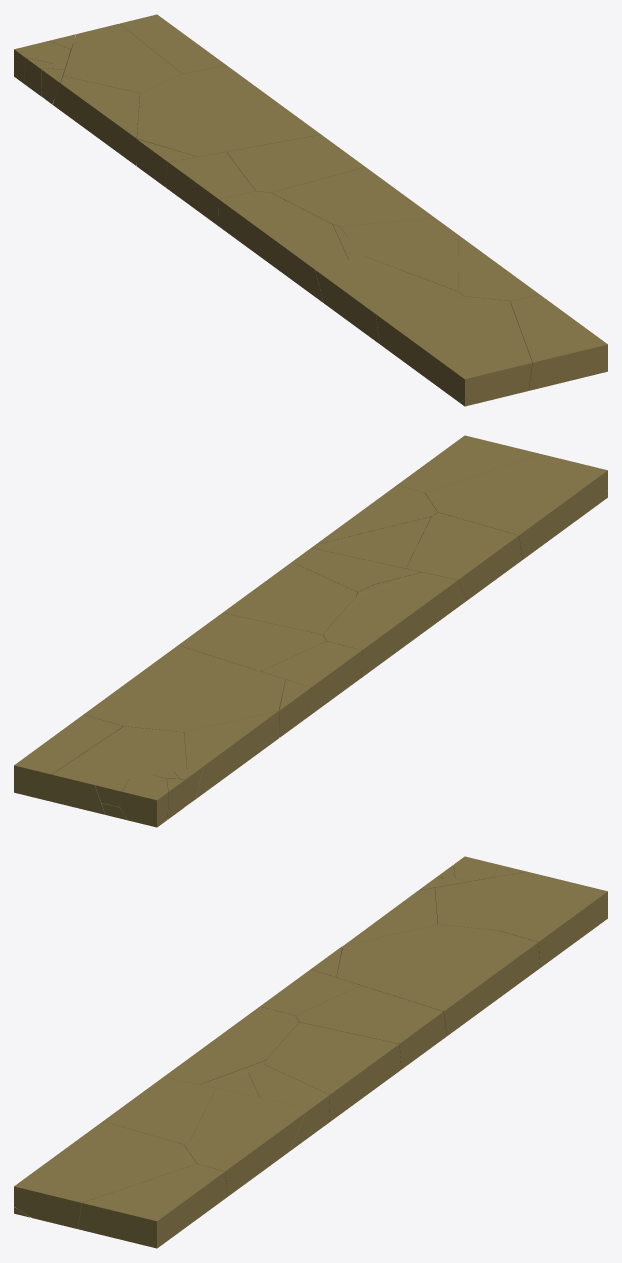
The model's file is DestroyedWoodPlank.fbx.
3 views of the same model, one above another, from view 1: azimuth 30°, elevation 25°; view 2: azimuth 150°, elevation 25°; view 3: azimuth 330°, elevation 25° (orthographic).
Parts seen in each view (by area): view 1: WoodPlank.001_cell.002_cell.005, WoodPlank.001_cell.004_cell.001, WoodPlank.001_cell.003_cell.006, WoodPlank.001_cell.002_cell.002, WoodPlank.001_cell.002_cell.001, WoodPlank.001_cell.003_cell, WoodPlank.001_cell.004_cell.003, WoodPlank.001_cell.003_cell.005, WoodPlank.001_cell.004_cell.004, WoodPlank.001_cell.003_cell.002, WoodPlank.001_cell.002_cell.004, WoodPlank.001_cell.002_cell (+7 smaller); view 2: WoodPlank.001_cell.004_cell.001, WoodPlank.001_cell.002_cell.005, WoodPlank.001_cell.003_cell.006, WoodPlank.001_cell.004_cell.003, WoodPlank.001_cell.002_cell.002, WoodPlank.001_cell.003_cell, WoodPlank.001_cell.003_cell.005, WoodPlank.001_cell.004_cell.004, WoodPlank.001_cell.003_cell.002, WoodPlank.001_cell.002_cell.001, WoodPlank.001_cell.004_cell.002, WoodPlank.001_cell.002_cell.004 (+8 smaller); view 3: WoodPlank.001_cell.004_cell.001, WoodPlank.001_cell.002_cell.005, WoodPlank.001_cell.002_cell.001, WoodPlank.001_cell.003_cell, WoodPlank.001_cell.003_cell.005, WoodPlank.001_cell.004_cell.003, WoodPlank.001_cell.002_cell, WoodPlank.001_cell.003_cell.006, WoodPlank.001_cell.004_cell.002, WoodPlank.001_cell.002_cell.002, WoodPlank.001_cell.002_cell.004, WoodPlank.001_cell.003_cell.003 (+4 smaller).
Part boxes in pixels (x1,y1,x2,y2): WoodPlank.001_cell.002_cell.005: (376, 296, 532, 402); WoodPlank.001_cell.004_cell.001: (137, 65, 320, 156); WoodPlank.001_cell.003_cell.006: (218, 191, 348, 302); WoodPlank.001_cell.002_cell.002: (315, 256, 463, 343); WoodPlank.001_cell.002_cell.001: (510, 294, 607, 390); WoodPlank.001_cell.003_cell: (271, 167, 434, 227); WoodPlank.001_cell.004_cell.003: (54, 23, 181, 100); WoodPlank.001_cell.003_cell.005: (227, 134, 364, 192); WoodPlank.001_cell.004_cell.004: (52, 76, 139, 165); WoodPlank.001_cell.003_cell.002: (165, 152, 254, 225); WoodPlank.001_cell.002_cell.004: (365, 232, 458, 291); WoodPlank.001_cell.002_cell: (458, 235, 539, 301); WoodPlank.001_cell.004_cell.001: (84, 645, 285, 736); WoodPlank.001_cell.002_cell.005: (425, 454, 607, 559); WoodPlank.001_cell.003_cell.006: (323, 572, 466, 677); WoodPlank.001_cell.004_cell.003: (39, 726, 187, 814); WoodPlank.001_cell.002_cell.002: (406, 512, 522, 600); WoodPlank.001_cell.003_cell: (223, 562, 357, 634); WoodPlank.001_cell.003_cell.005: (178, 613, 325, 671); WoodPlank.001_cell.004_cell.004: (184, 711, 279, 798); WoodPlank.001_cell.003_cell.002: (261, 641, 361, 716); WoodPlank.001_cell.002_cell.001: (397, 435, 539, 492); WoodPlank.001_cell.004_cell.002: (14, 714, 122, 798); WoodPlank.001_cell.002_cell.004: (311, 517, 430, 568); WoodPlank.001_cell.004_cell.001: (336, 924, 539, 1035); WoodPlank.001_cell.002_cell.005: (14, 1121, 196, 1228); WoodPlank.001_cell.002_cell.001: (78, 1164, 227, 1248); WoodPlank.001_cell.003_cell: (264, 1022, 401, 1122); WoodPlank.001_cell.003_cell.005: (295, 985, 446, 1069); WoodPlank.001_cell.004_cell.003: (435, 871, 570, 930); WoodPlank.001_cell.002_cell: (184, 1112, 306, 1196); WoodPlank.001_cell.003_cell.006: (164, 1006, 298, 1084); WoodPlank.001_cell.004_cell.002: (499, 882, 607, 967); WoodPlank.001_cell.002_cell.002: (103, 1077, 215, 1144); WoodPlank.001_cell.002_cell.004: (191, 1088, 310, 1151); WoodPlank.001_cell.003_cell.003: (248, 1064, 329, 1142).
Bounding box in the file's own units: 110 × 20 × 600.
